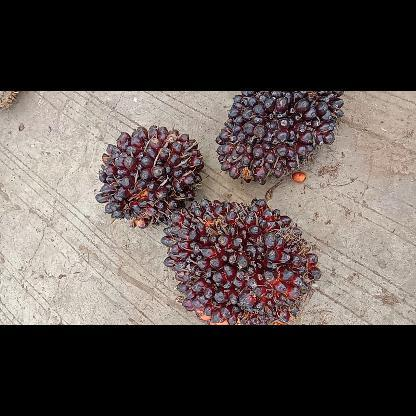TBS mentah: (159, 196, 323, 324), (212, 90, 346, 186), (92, 122, 206, 230)
